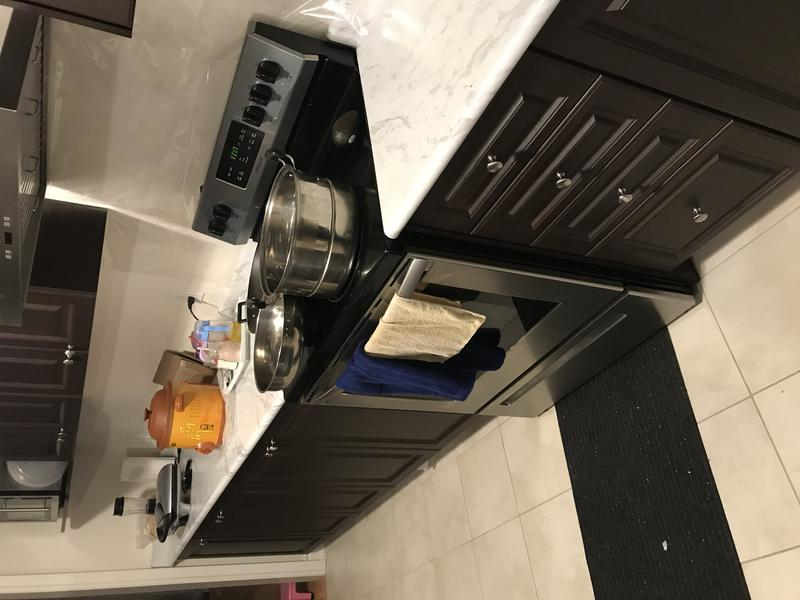avocado: (321, 104, 372, 158)
